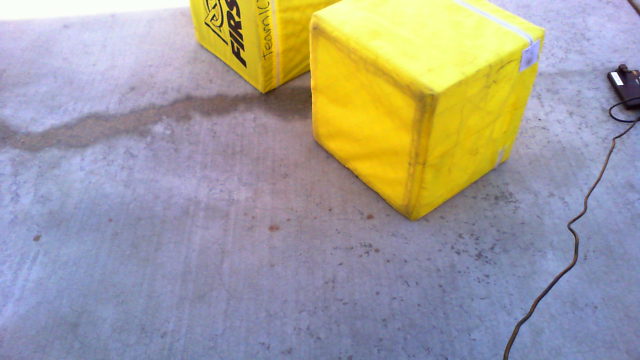cube: (308, 1, 546, 221), (190, 1, 359, 96)
